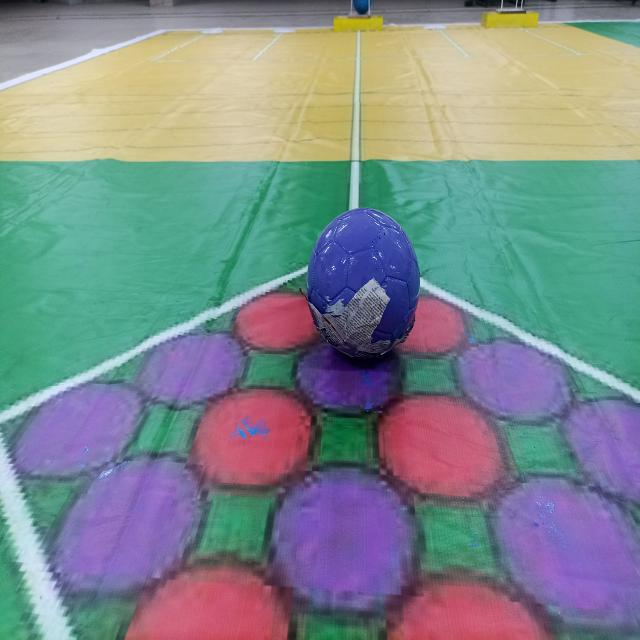purple_ball: (304, 209, 422, 360)
